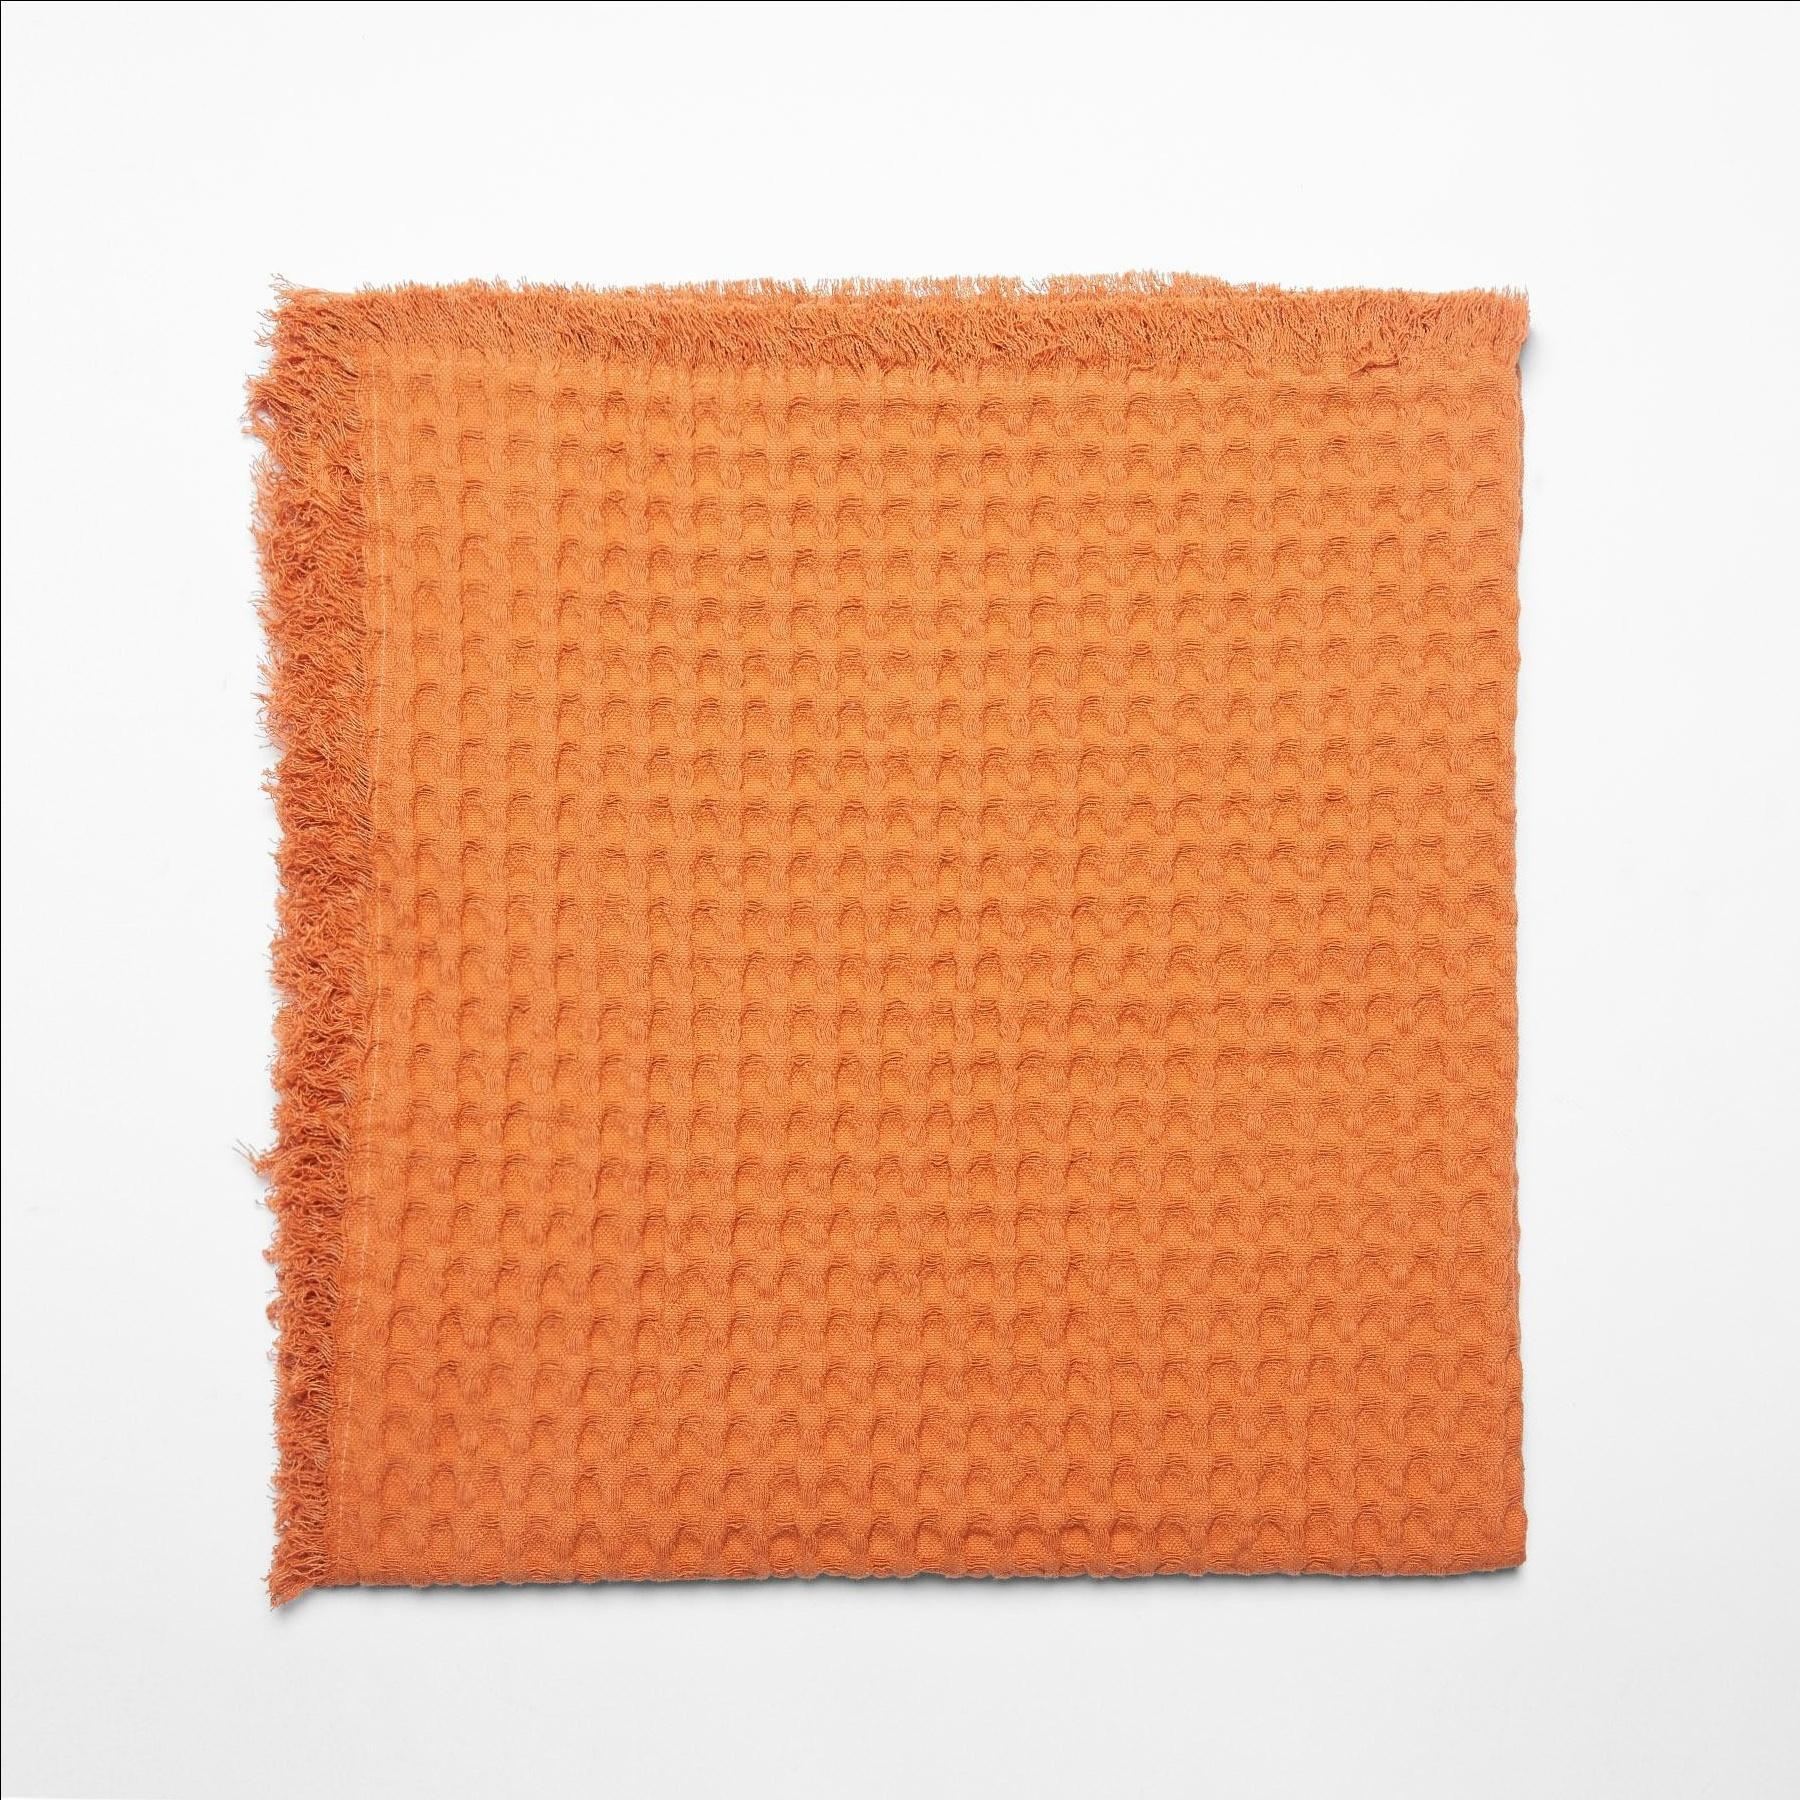towel: (214, 246, 1670, 1645)
